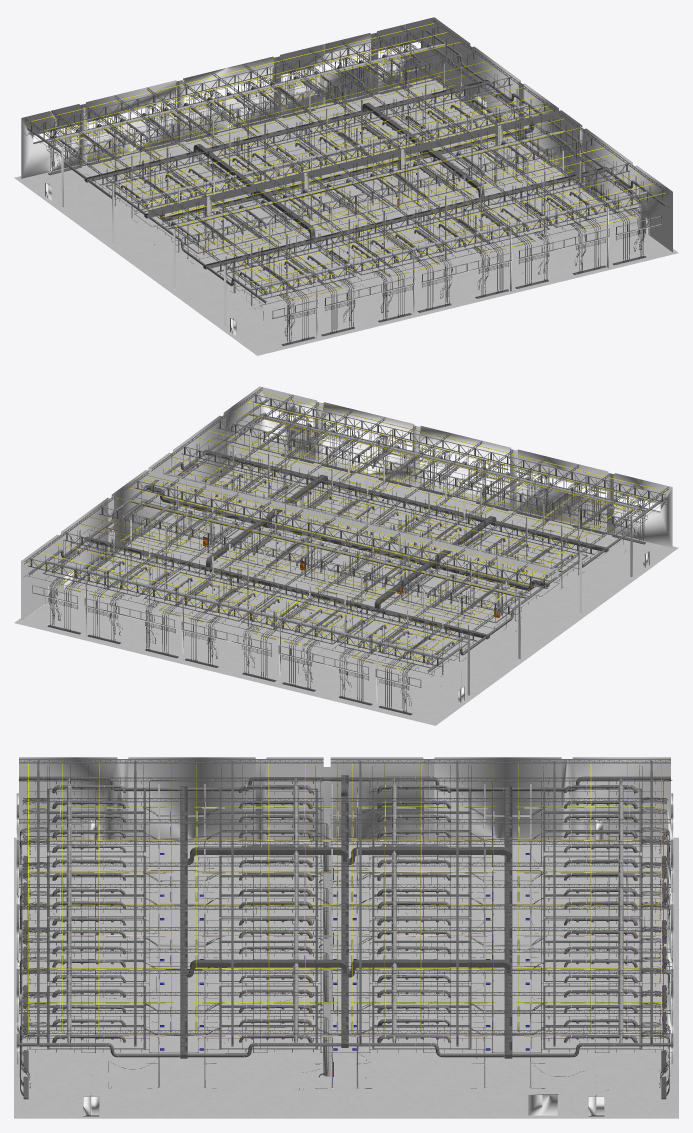
Rendered from Building.glb.
The picture shows the model from 3 angles, top to bottom: view 1: azimuth 30°, elevation 25°; view 2: azimuth 150°, elevation 25°; view 3: azimuth 270°, elevation 25°; orthographic projection. The views are drawn at different scales.
Visible parts, largest first — view 1: Bldg_Floor_001, Bldg_Wall_001, CL_Cchannel_001, Bldg_Cable_002, Bldg_Cable_001, CL_Duct_003, CL_TrussB_008, CL_TrussB_007, CL_TrussB_001, CL_Duct_001, CL_TrussB_003, CL_TrussB_006 (+51 smaller); view 2: Bldg_Floor_001, Bldg_Wall_001, CL_Cchannel_001, Bldg_Cable_001, Bldg_Cable_002, CL_TrussB_001, CL_TrussB_006, CL_Duct_002, CL_TrussB_008, CL_Duct_001, CL_TrussB_002, CL_TrussB_004 (+51 smaller); view 3: Bldg_Floor_001, Bldg_Wall_001, CL_PipeC_004, CL_PipeC_001, CL_Cchannel_001, CL_PipeC_003, CL_PipeC_002, CL_PipeA_001, CL_PipeA_002, CL_Duct_001, CL_Duct_003, CL_Duct_002 (+91 smaller).
Boxes of the visible parts, left/top/right/bottom form: Bldg_Floor_001: left=14, top=79, right=678, bottom=355; Bldg_Wall_001: left=21, top=17, right=672, bottom=338; CL_Cchannel_001: left=27, top=23, right=665, bottom=292; Bldg_Cable_002: left=277, top=208, right=643, bottom=344; Bldg_Cable_001: left=50, top=42, right=416, bottom=171; CL_Duct_003: left=203, top=167, right=608, bottom=269; CL_TrussB_008: left=253, top=189, right=665, bottom=297; CL_TrussB_007: left=217, top=163, right=630, bottom=271; CL_TrussB_001: left=28, top=25, right=441, bottom=133; CL_Duct_001: left=84, top=80, right=489, bottom=182; CL_TrussB_003: left=99, top=77, right=512, bottom=185; CL_TrussB_006: left=182, top=137, right=594, bottom=245; Bldg_Floor_001: left=14, top=449, right=678, bottom=725; Bldg_Wall_001: left=21, top=386, right=672, bottom=707; CL_Cchannel_001: left=28, top=392, right=666, bottom=661; Bldg_Cable_001: left=50, top=577, right=416, bottom=713; Bldg_Cable_002: left=277, top=412, right=644, bottom=541; CL_TrussB_001: left=28, top=558, right=441, bottom=666; CL_TrussB_006: left=181, top=446, right=594, bottom=554; CL_Duct_002: left=144, top=485, right=549, bottom=590; CL_TrussB_008: left=252, top=394, right=665, bottom=502; CL_Duct_001: left=84, top=536, right=489, bottom=639; CL_TrussB_002: left=63, top=532, right=476, bottom=640; CL_TrussB_004: left=134, top=480, right=547, bottom=588; Bldg_Floor_001: left=14, top=837, right=678, bottom=1118; Bldg_Wall_001: left=16, top=757, right=673, bottom=1077; CL_PipeC_004: left=52, top=785, right=126, bottom=1042; CL_PipeC_001: left=564, top=785, right=637, bottom=1042; CL_Cchannel_001: left=28, top=763, right=661, bottom=1034; CL_PipeC_003: left=239, top=785, right=312, bottom=1042; CL_PipeC_002: left=377, top=785, right=451, bottom=1042; CL_PipeA_001: left=19, top=1043, right=670, bottom=1057; CL_PipeA_002: left=19, top=776, right=670, bottom=791; CL_Duct_001: left=504, top=786, right=512, bottom=1058; CL_Duct_003: left=180, top=786, right=187, bottom=1058; CL_Duct_002: left=341, top=775, right=348, bottom=1047.
Size of what is drawn, in the model's own units: 67.37 by 9.55 by 67.34.
Materials: 30 (13 with a texture image).
